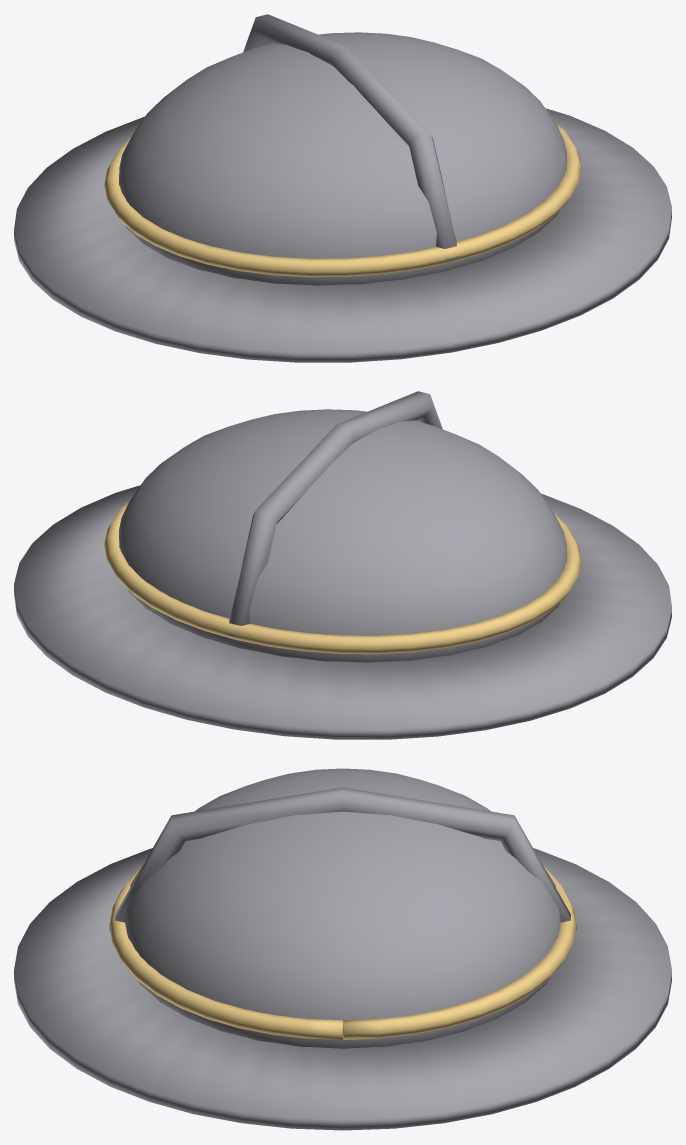
The model's file is JailerHelmet.fbx.
3 renders of one model, top to bottom at view 1: azimuth 30°, elevation 25°; view 2: azimuth 150°, elevation 25°; view 3: azimuth 270°, elevation 25°, orthographic. The views are drawn at different scales.
Parts seen in each view (by area): view 1: JailerHelmet; view 2: JailerHelmet; view 3: JailerHelmet.
Boxes of the visible parts, x1,y1,x2,y2 form: JailerHelmet: [14, 14, 671, 362]; JailerHelmet: [14, 391, 671, 739]; JailerHelmet: [14, 768, 671, 1130].
Size of the model in its own units: 0.86 by 0.2556 by 0.8.
